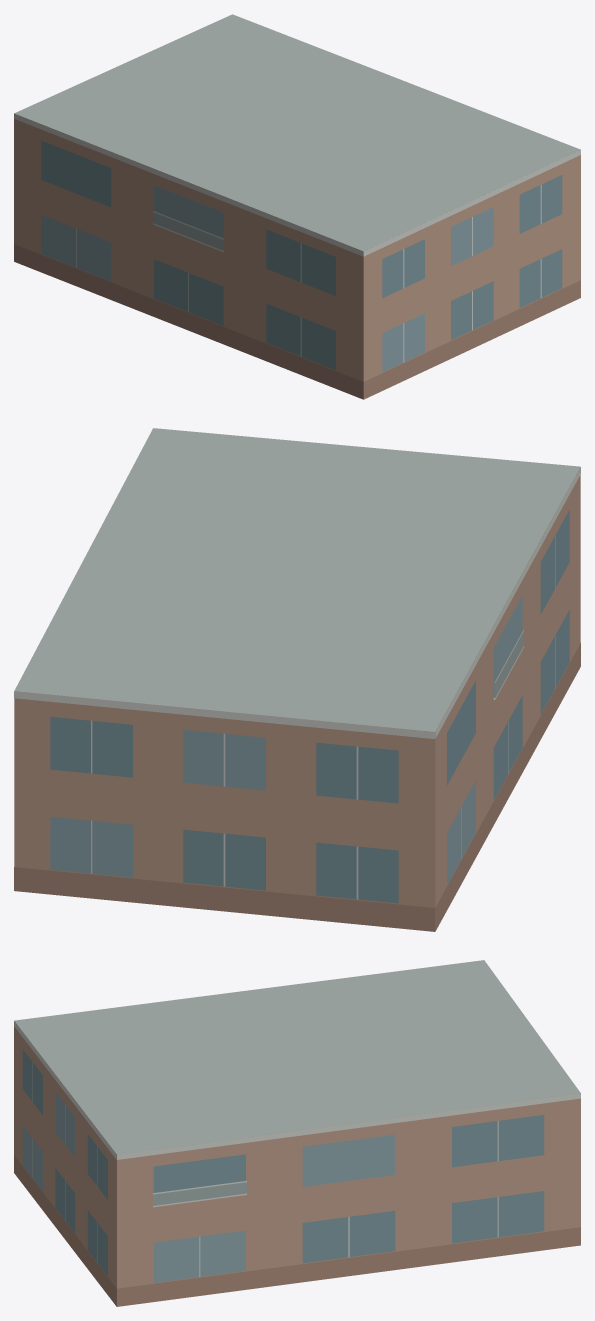
Rendered from survey-upis-32858211.glb.
3 renders of one model, top to bottom at view 1: azimuth 30°, elevation 25°; view 2: azimuth 150°, elevation 25°; view 3: azimuth 270°, elevation 25°, orthographic. The views are drawn at different scales.
Parts seen in each view (by area): view 1: survey-upis-32858211.tmp; view 2: survey-upis-32858211.tmp; view 3: survey-upis-32858211.tmp.
Boxes of the visible parts, box(x1,y1,x2,y2) form: survey-upis-32858211.tmp: box(14, 14, 580, 399); survey-upis-32858211.tmp: box(14, 428, 580, 931); survey-upis-32858211.tmp: box(14, 960, 580, 1306).
Bounding box in the file's own units: 18.63 × 6.8 × 22.94.
